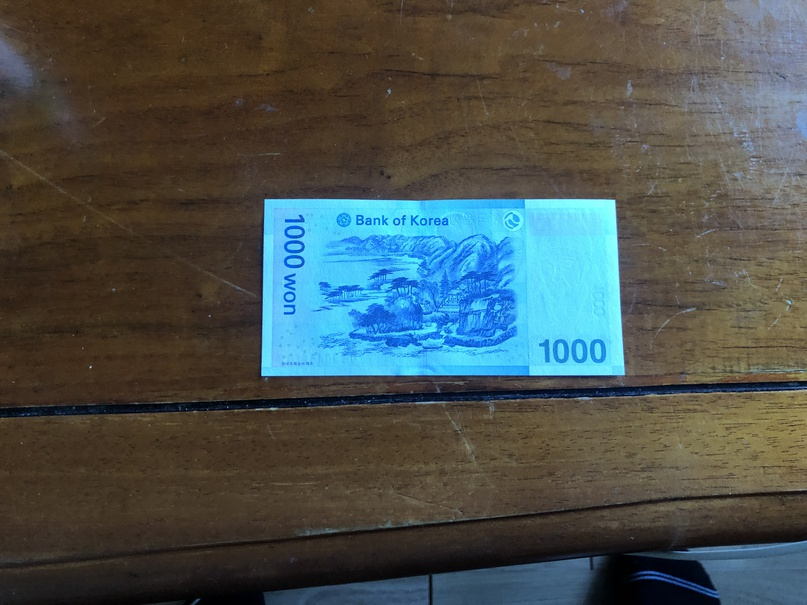1000won: (262, 194, 625, 373)
